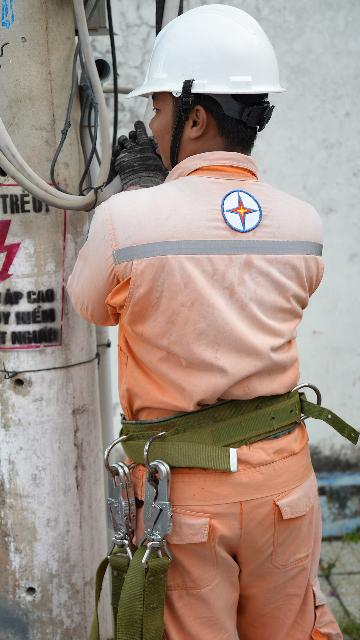gloves: (99, 122, 176, 193)
harness: (72, 377, 360, 482)
helmet: (136, 0, 293, 130)
